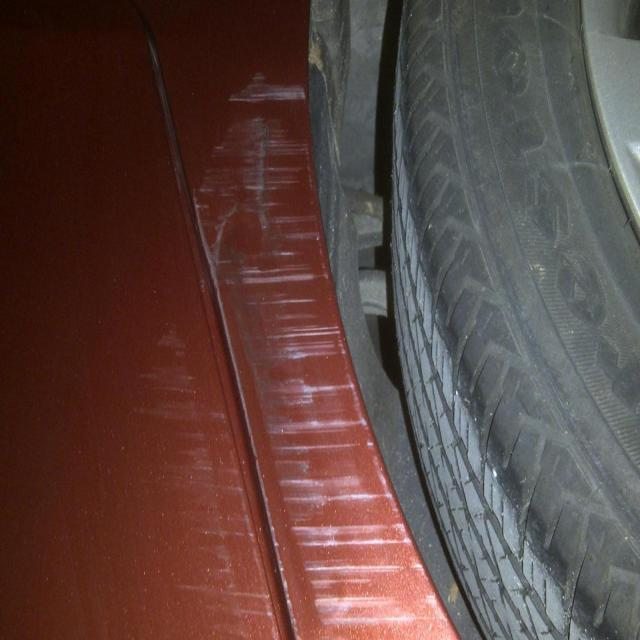scratch: (154, 46, 436, 639)
